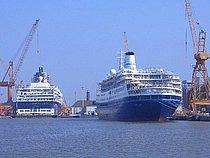Ship: (95, 49, 187, 122)
